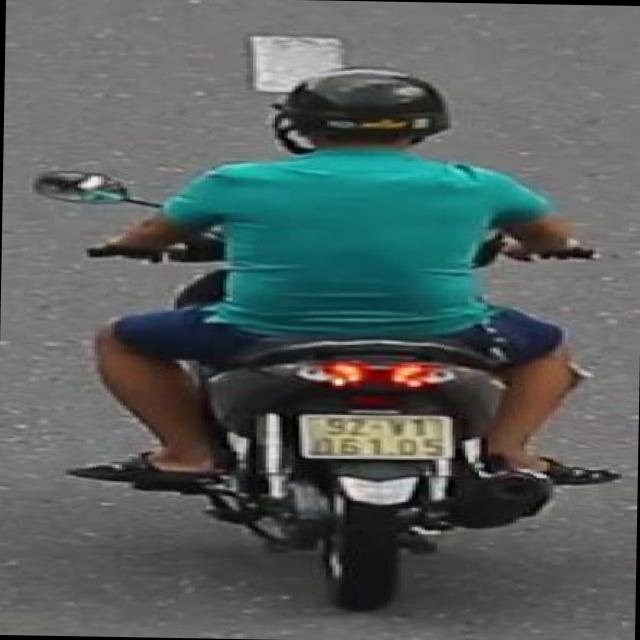LP: (292, 407, 452, 465)
helmet: (277, 66, 458, 170)
